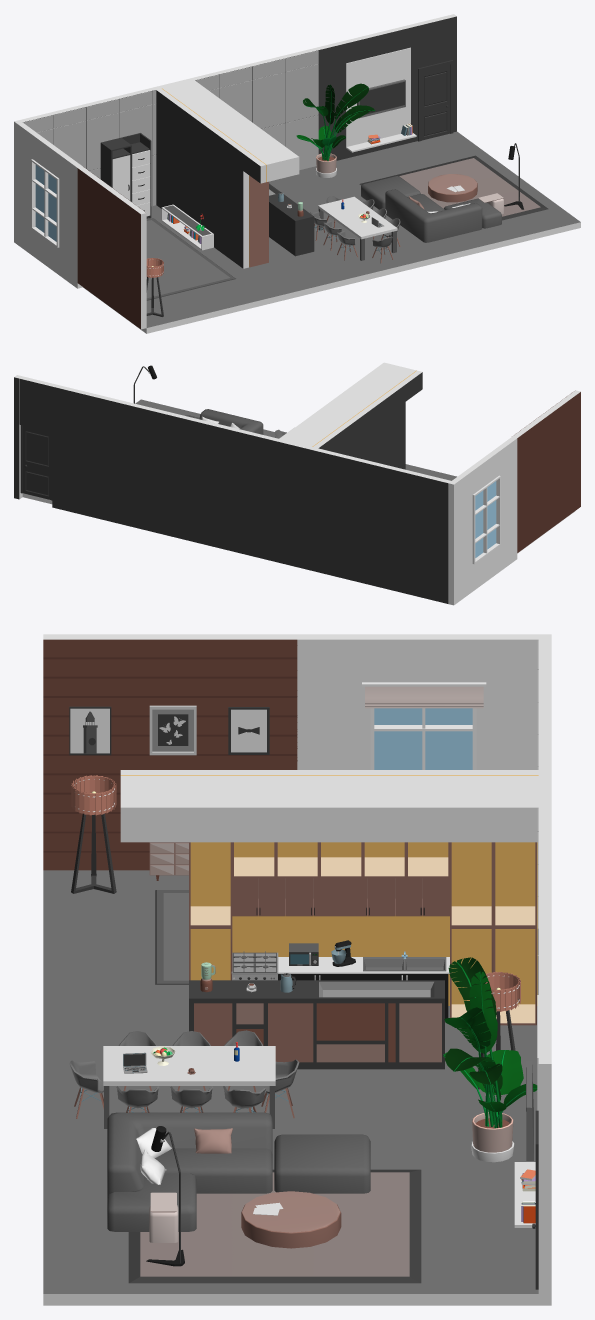
The model's file is room_20.glb.
3 renders of one model, top to bottom at view 1: azimuth 30°, elevation 25°; view 2: azimuth 150°, elevation 25°; view 3: azimuth 270°, elevation 25°, orthographic. The views are drawn at different scales.
Parts seen in each view (by area): view 1: Walls_046.001, Walls_011.003, Walls_056.001, Walls_011.005, sofa_016.002, Walls_003.009, carpet_004.003, Walls_006.051, carpet_001.002, closet_017.001, Walls_006.164, Walls_006.052 (+31 smaller); view 2: Walls_011.005, Walls_056.001, Walls_011.003, Walls_003.009, Walls_006.052, Walls_006.164, window_023.001, door_019.001, Walls_011.004, Walls_046.001, Walls_011.002, sofa_016.002 (+4 smaller); view 3: Walls_046.001, wall_007.001, Walls_003.009, Walls_024.018, sofa_016.002, carpet_001.002, kitchen_item_023.001, Walls_006.164, Walls_006.052, flower_001.001, window_023.001, kitchen_table_018.005 (+32 smaller).
Part boxes in pixels (x1,y1,x2,y2): Walls_046.001: (83, 131, 580, 333); Walls_011.003: (156, 88, 248, 268); Walls_056.001: (77, 166, 146, 329); Walls_011.005: (20, 23, 418, 170); sofa_016.002: (361, 176, 503, 242); Walls_003.009: (162, 80, 299, 181); carpet_004.003: (146, 218, 235, 300); Walls_006.051: (346, 47, 410, 147); carpet_001.002: (359, 155, 548, 220); closet_017.001: (100, 133, 151, 218); Walls_006.164: (58, 152, 82, 288); Walls_006.052: (14, 120, 37, 255); Walls_011.005: (52, 384, 450, 603); Walls_056.001: (512, 390, 580, 552); Walls_011.003: (313, 383, 405, 469); Walls_003.009: (280, 362, 416, 446); Walls_006.052: (448, 469, 472, 605); Walls_006.164: (493, 437, 517, 572); window_023.001: (472, 475, 500, 564); door_019.001: (23, 425, 51, 499); Walls_011.004: (19, 376, 54, 432); Walls_046.001: (22, 399, 575, 553); Walls_011.002: (14, 375, 22, 499); sofa_016.002: (186, 409, 263, 434); Walls_046.001: (43, 870, 538, 1305); wall_007.001: (43, 640, 297, 870); Walls_003.009: (120, 776, 538, 842); Walls_024.018: (189, 775, 538, 1005); sofa_016.002: (107, 1112, 370, 1242); carpet_001.002: (128, 1169, 421, 1283); kitchen_item_023.001: (189, 980, 444, 1069); Walls_006.164: (297, 634, 373, 769); Walls_006.052: (475, 634, 551, 769); flower_001.001: (443, 957, 537, 1128); window_023.001: (370, 708, 476, 769); kitchen_table_018.005: (103, 1046, 275, 1128).
Size of the model in its own units: 16.06 by 4.2 by 8.
Materials: 1 (1 with a texture image).
